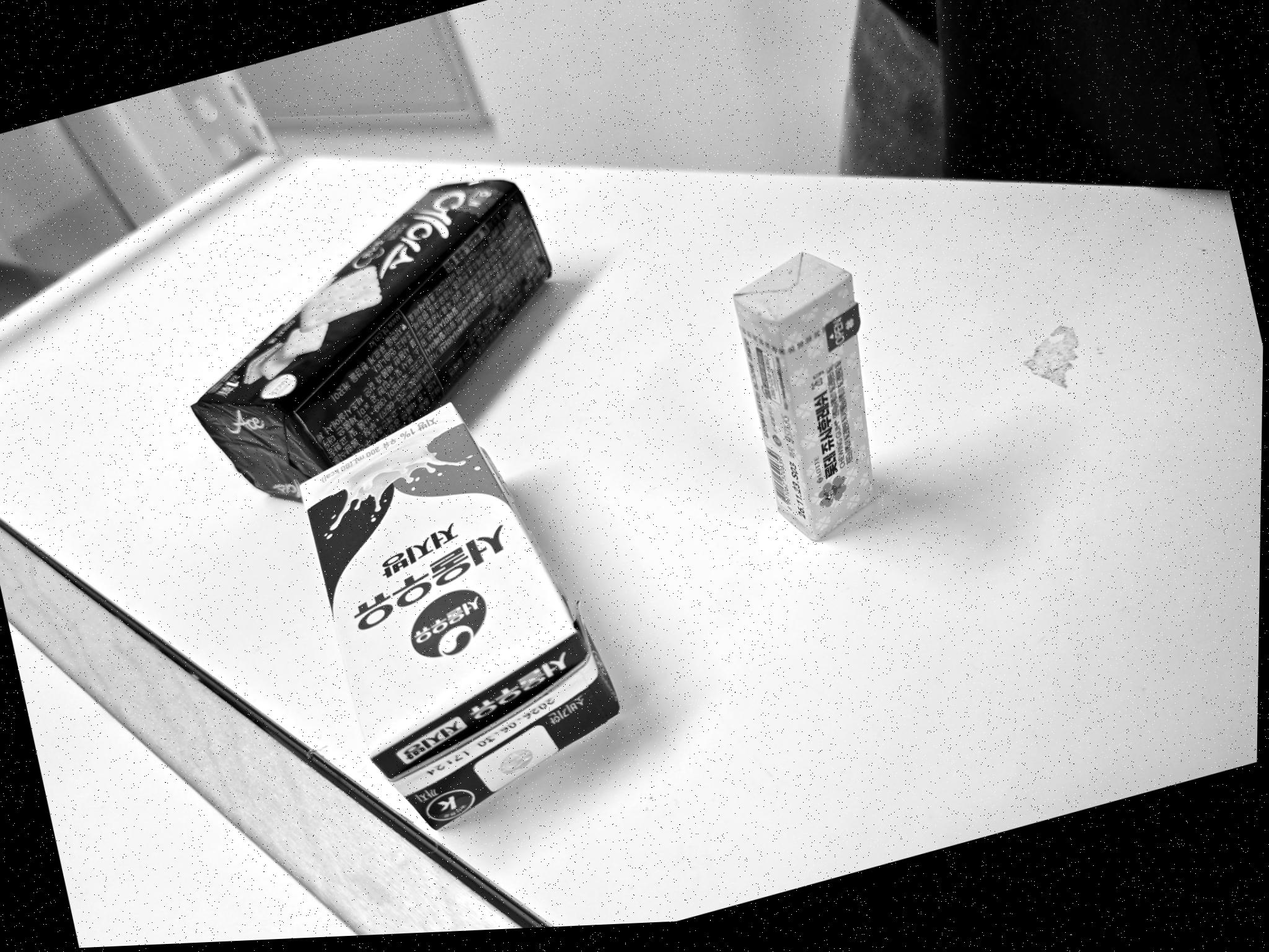cracker_ace: (192, 180, 550, 498)
gum_yellow: (734, 253, 873, 540)
milk_blue: (302, 404, 619, 829)
